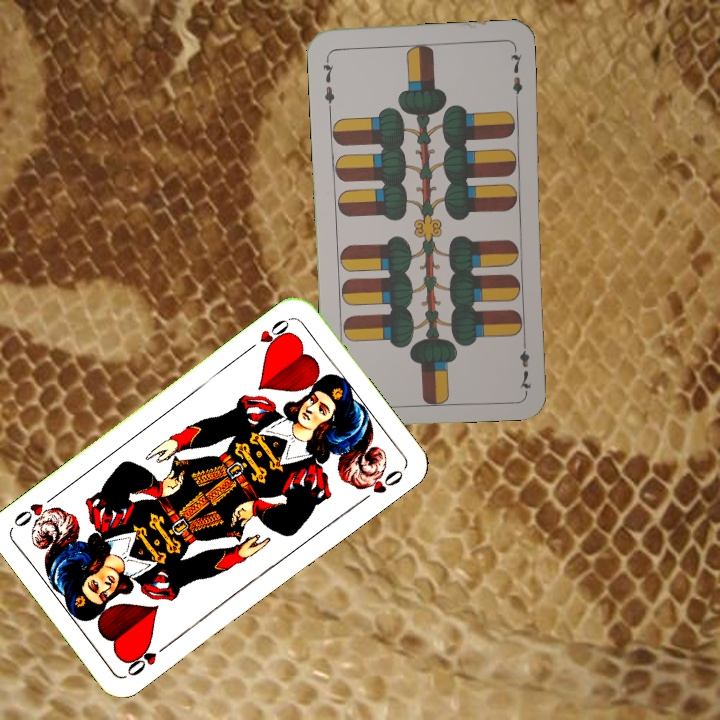E7: (318, 53, 337, 112), (516, 334, 534, 393)
HO: (242, 314, 294, 355), (122, 638, 173, 679)
